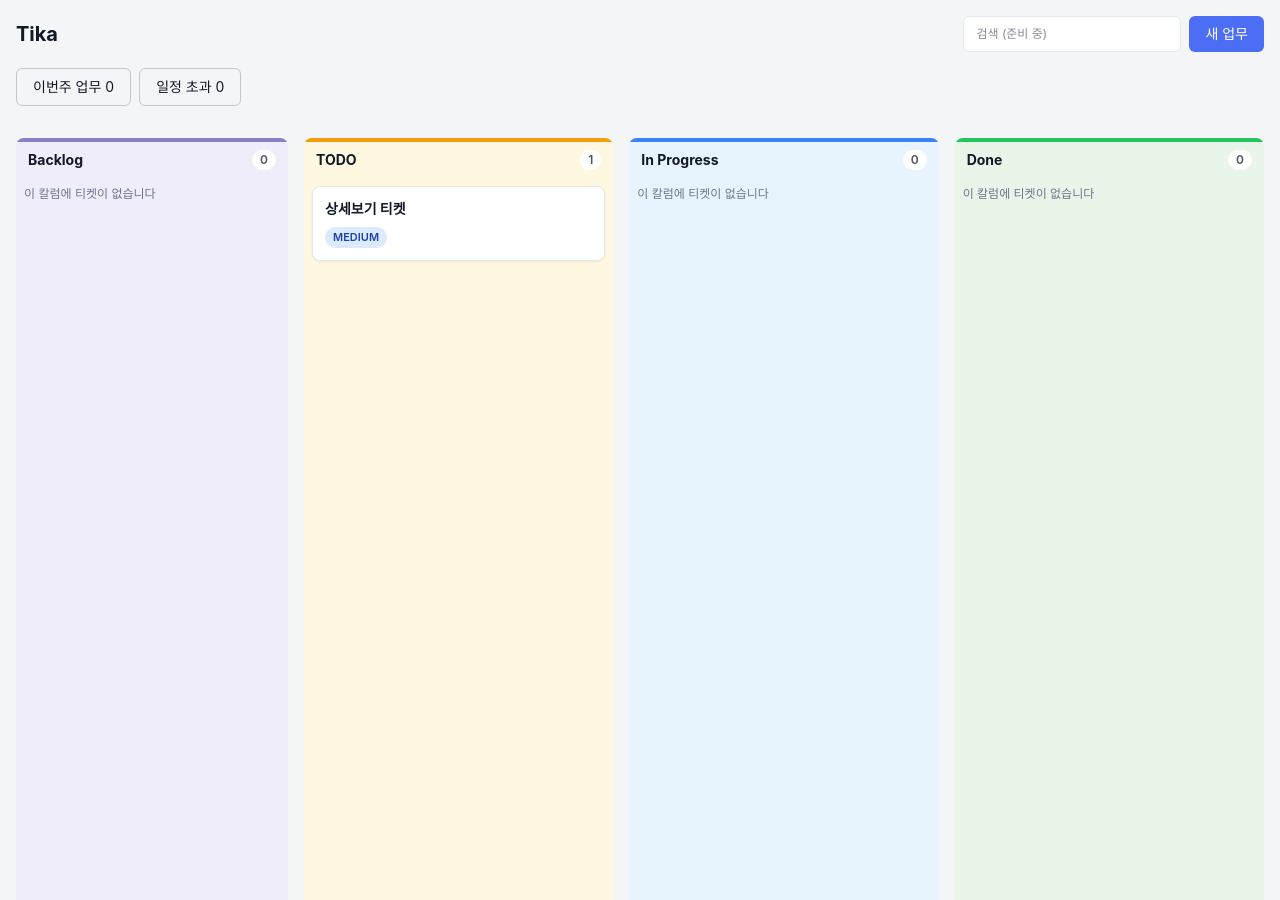
BoardContainer › TicketCard 클릭 시 TicketModal이 열린다
What coordinates should you click on to do the following:
click the text "상세보기 티켓"
I would click on:
 (365, 208)
Its box is top-left (325, 200), bottom-right (406, 217).
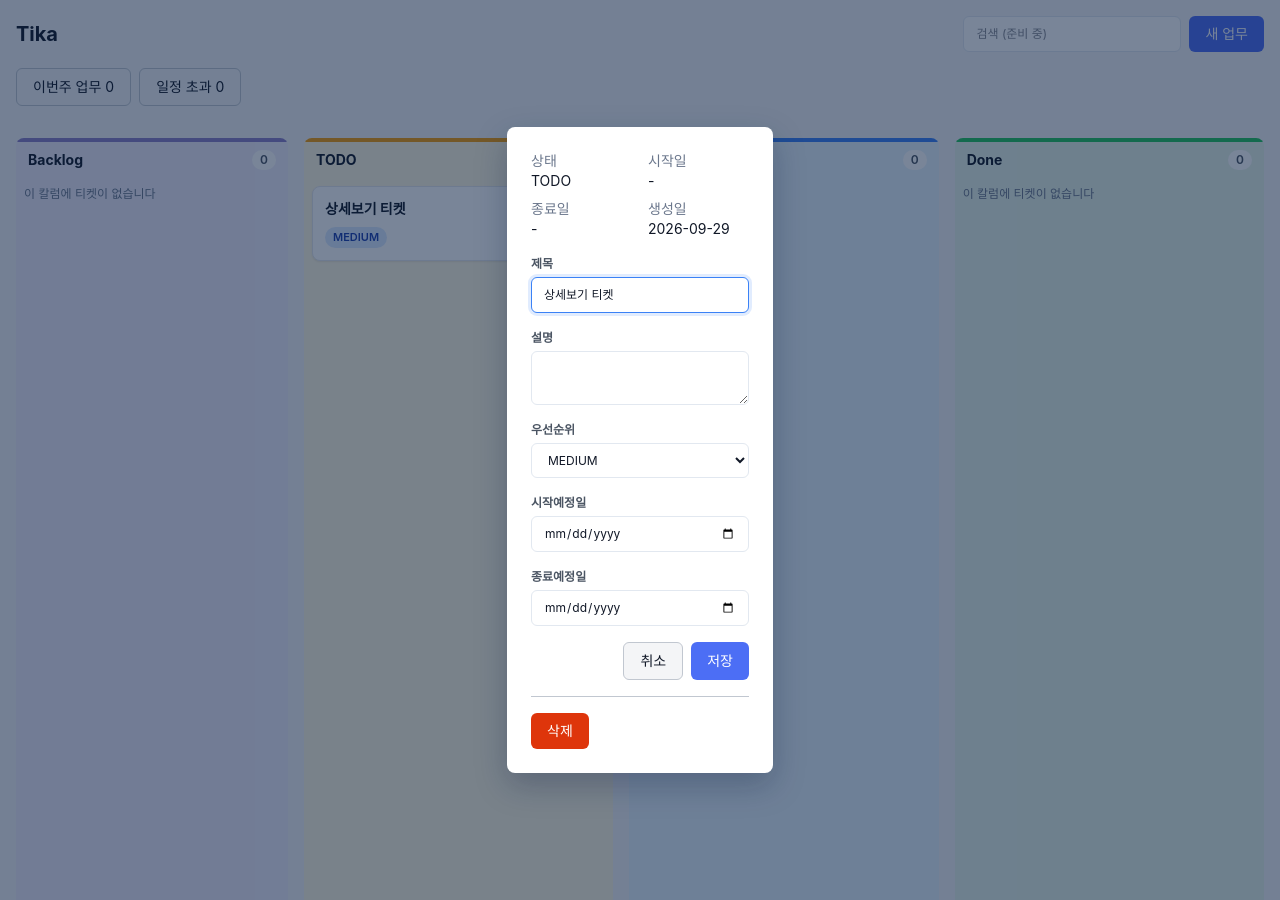
Result: the dialog is shown at top-left (507, 127), bottom-right (773, 773)
